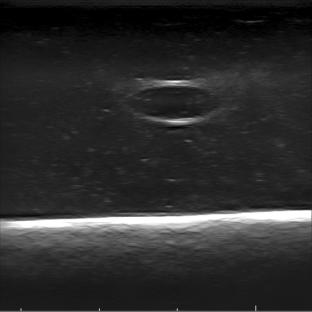vessel: (125, 80, 222, 125)
